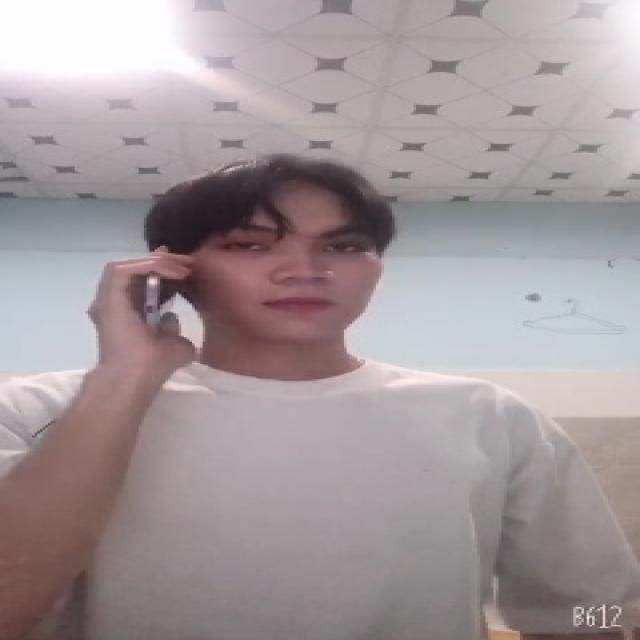Phone: (140, 254, 197, 337)
